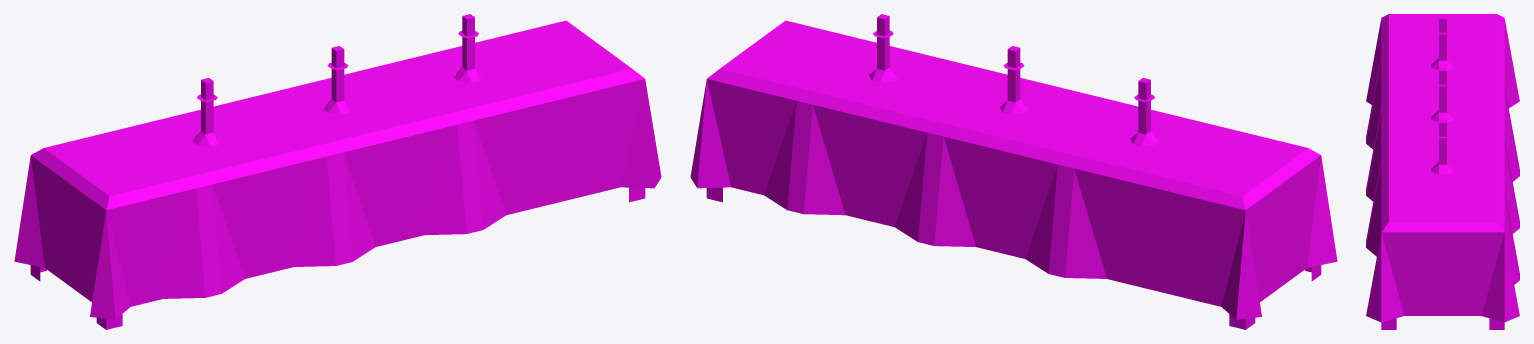
File: longtable.obj
3 renders of one model, left to right at view 1: azimuth 30°, elevation 25°; view 2: azimuth 150°, elevation 25°; view 3: azimuth 270°, elevation 25°, orthographic. The views are drawn at different scales.
Parts seen in each view (by area): view 1: longtable_back; view 2: longtable_back, longtable_front; view 3: longtable_back, longtable_front.
Boxes of the visible parts, x1,y1,x2,y2 form: longtable_back: (14,14,661,329); longtable_back: (690,14,1337,329); longtable_front: (764,101,1106,278); longtable_back: (1366,14,1519,329); longtable_front: (1504,87,1519,284).
Size of the model in its own units: 5.6 by 1.76 by 1.6.
